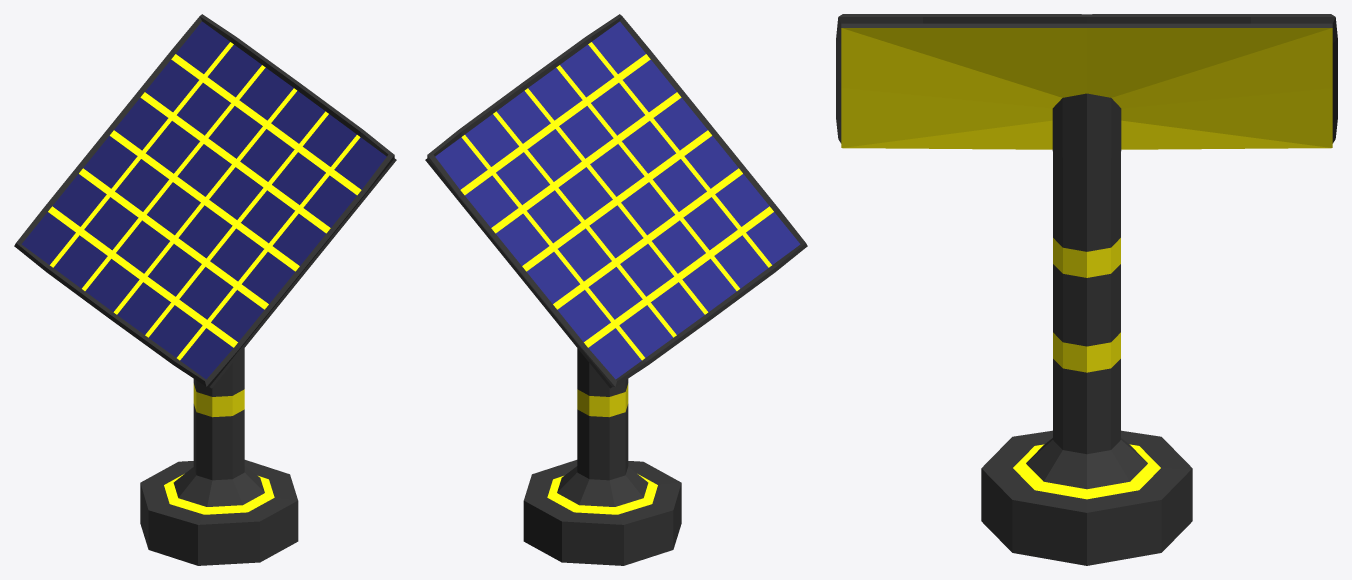
File: GenSolar.fbx
3 views of the same model, side by side, from view 1: azimuth 30°, elevation 25°; view 2: azimuth 150°, elevation 25°; view 3: azimuth 270°, elevation 25° (orthographic). The views are drawn at different scales.
Parts seen in each view (by area): view 1: Solar; view 2: Solar; view 3: Solar.
Boxes of the visible parts, x1,y1,x2,y2 form: Solar: [14, 14, 396, 565]; Solar: [425, 14, 807, 565]; Solar: [836, 14, 1337, 565].
Bounding box in the file's own units: 895 × 1911 × 1565.
